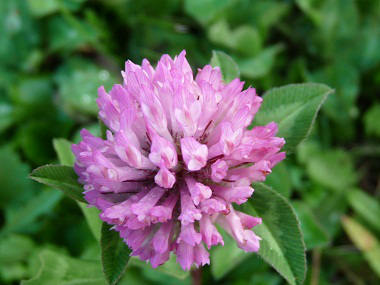clover: (43, 25, 340, 285)
